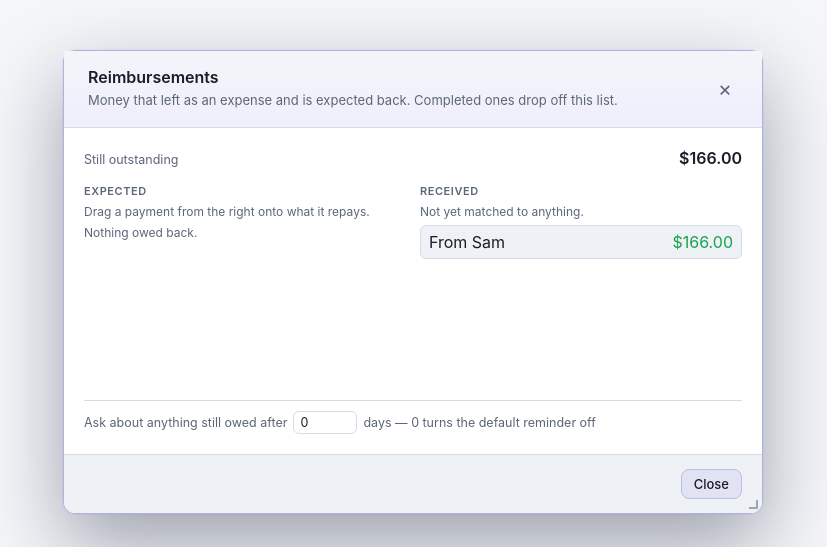
Test: an untracked row › says so rather than doing nothing when the transaction cannot be fetched
The width and height of the screenshot is (827, 547).
Step 1. Click the button "From Sam $166.00" → (467, 242), box [420,224,742,258]
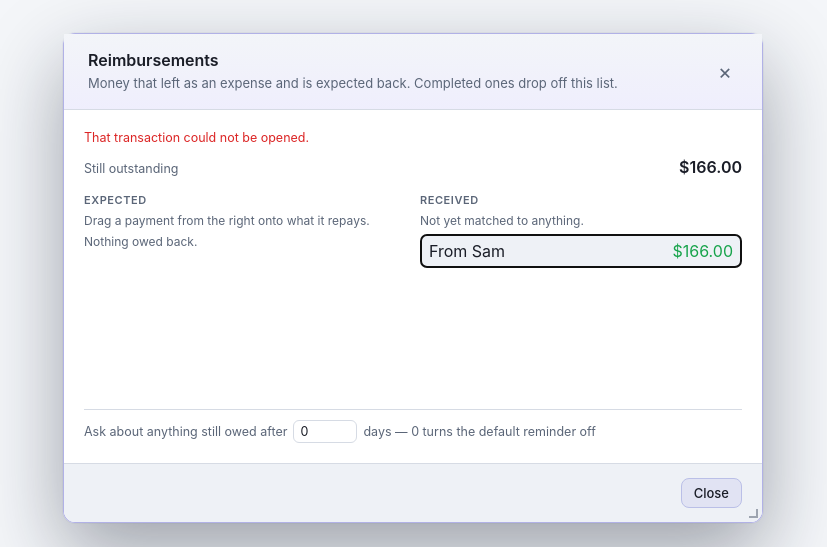
Now the text "That transaction could not be opened." is shown, box [84,130,309,145]
